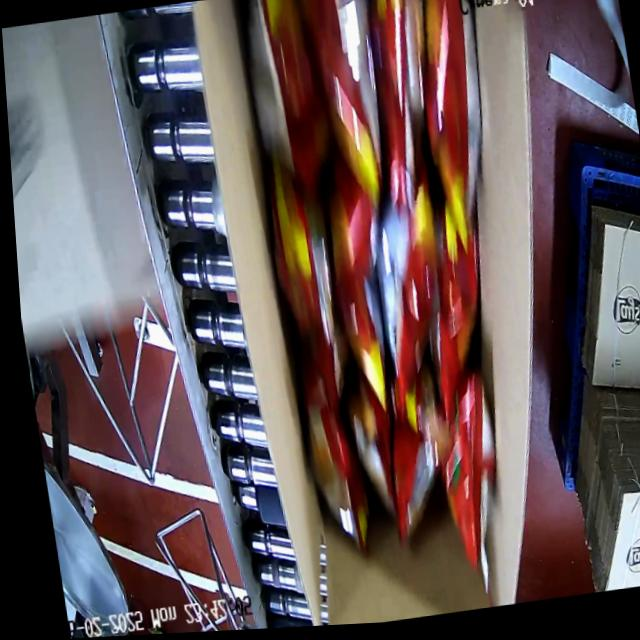MASALA: (230, 0, 562, 557)
